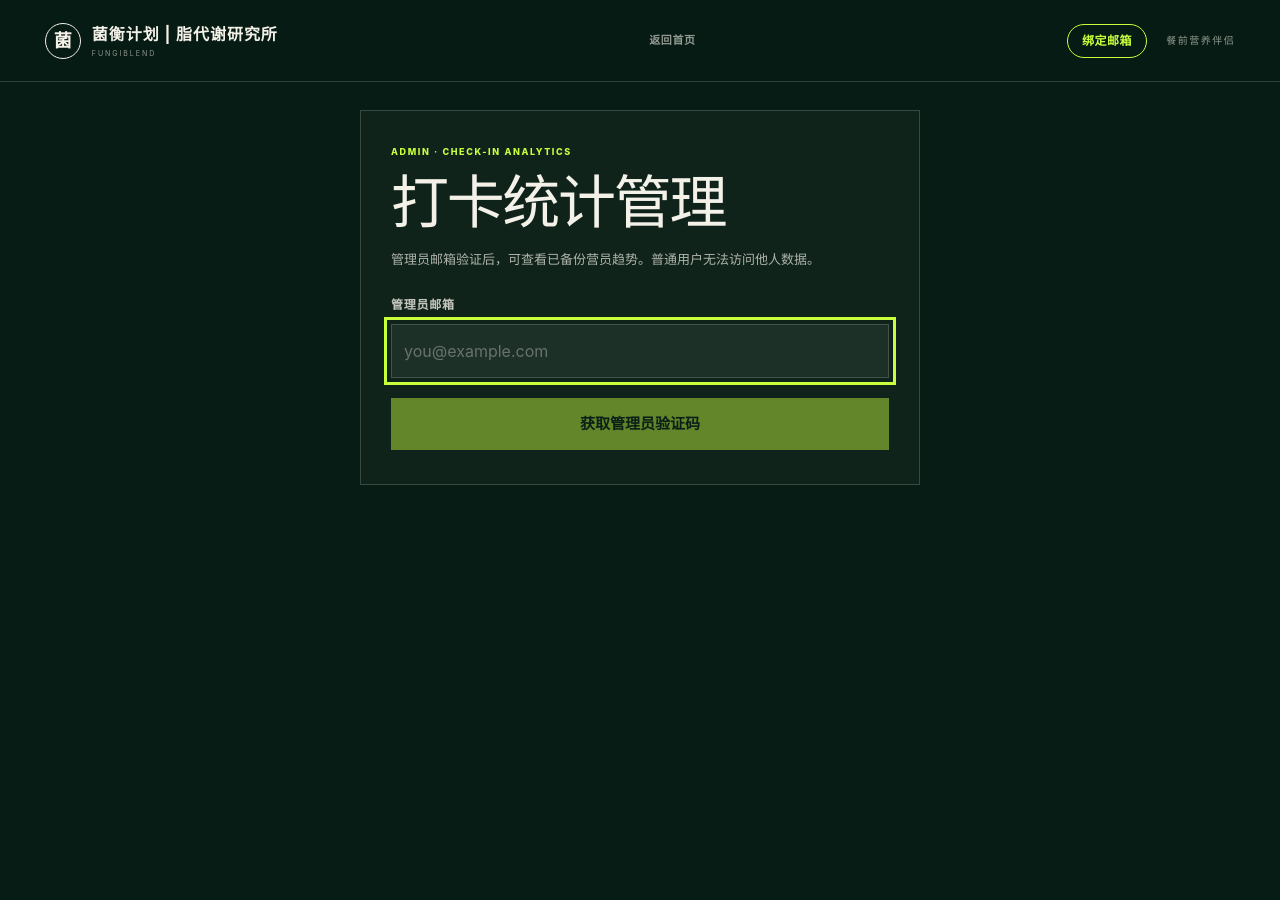
Test case: admin check-in page › shows a friendly whitelist error for a non-admin email
The image size is (1280, 900).
In the field labelled "管理员邮箱": (640, 351) x1=391 y1=324 x2=889 y2=378, type "outside@example.com"
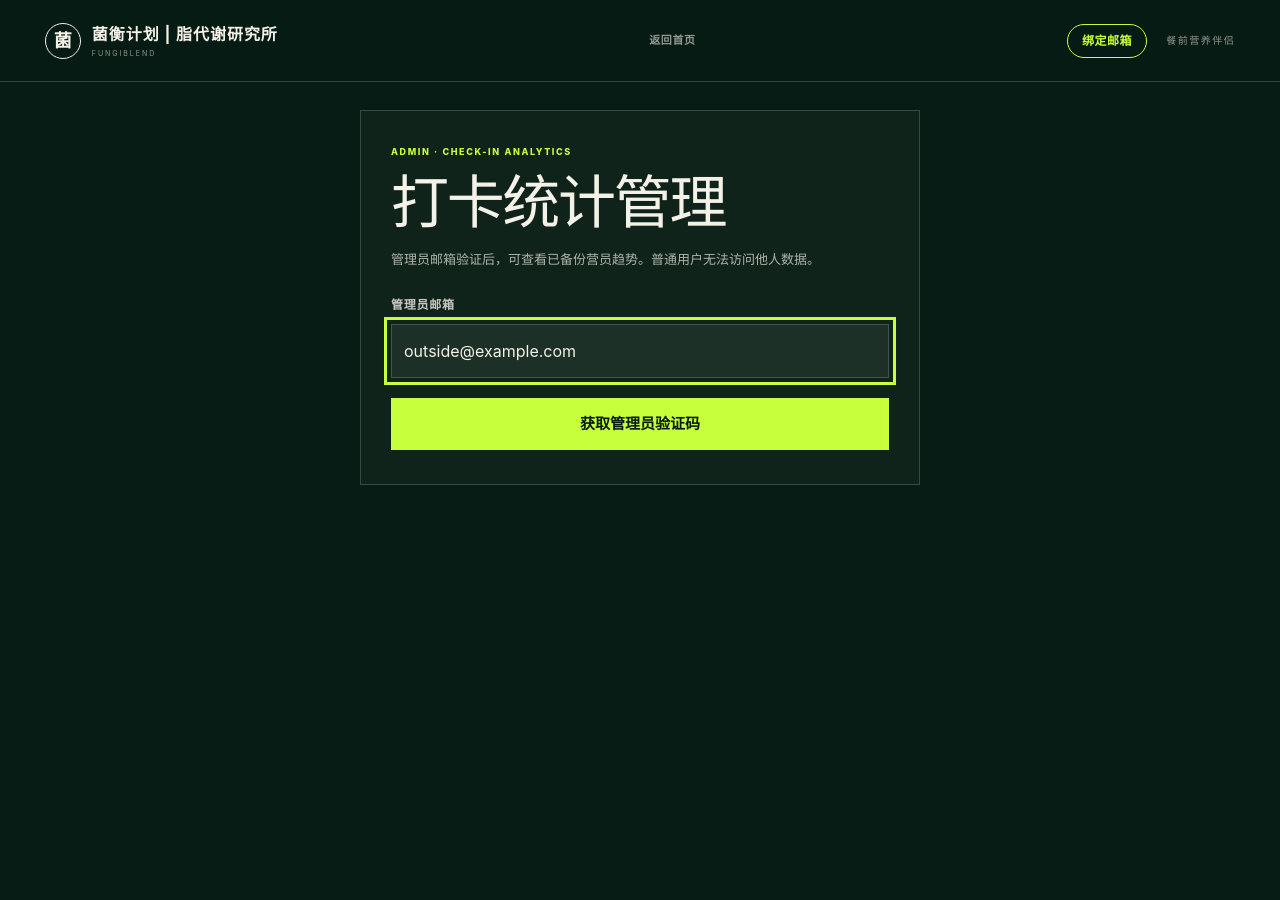
Click the button "获取管理员验证码": (640, 424) x1=391 y1=398 x2=889 y2=450
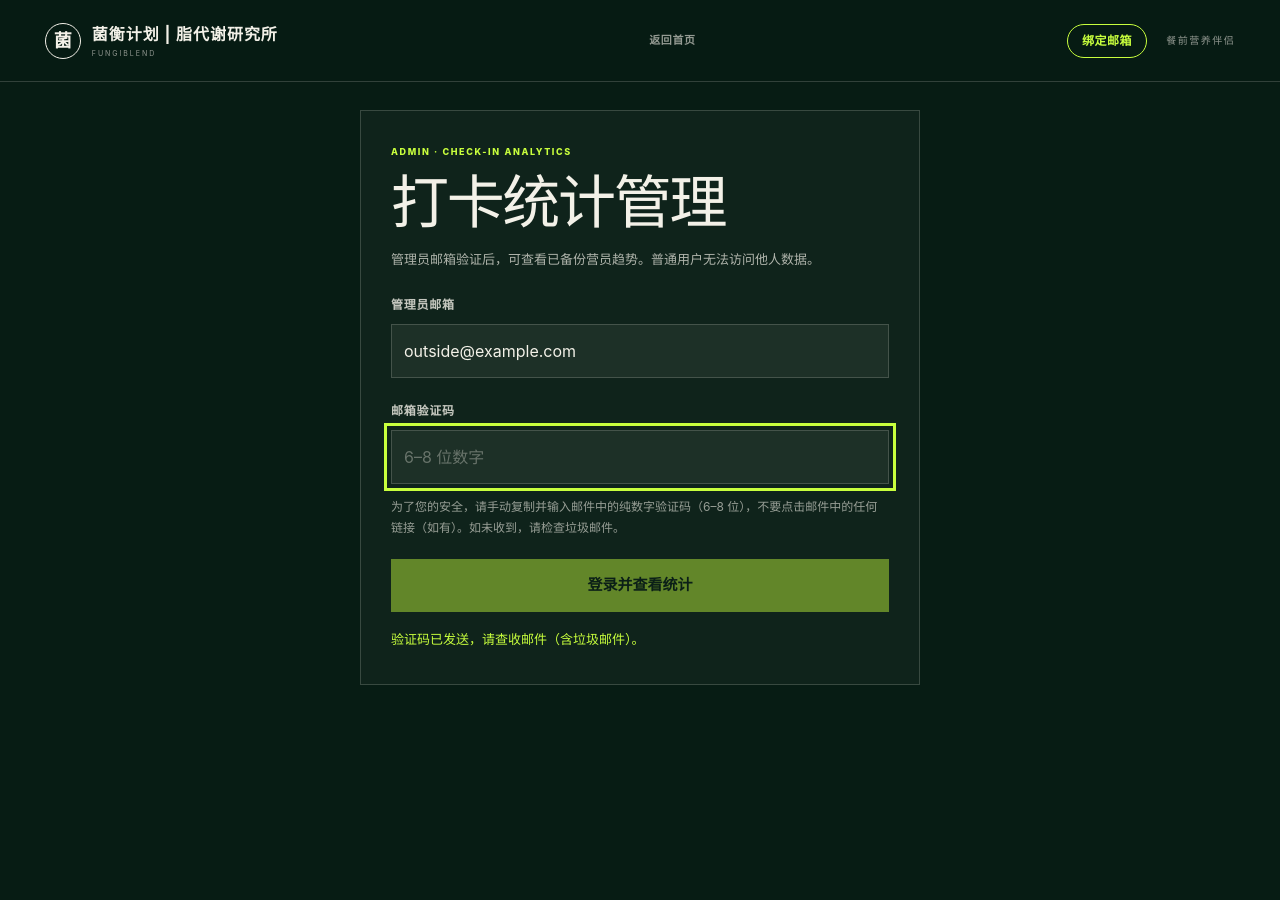
In the field labelled "邮箱验证码": (640, 457) x1=391 y1=430 x2=889 y2=484, type "123456"
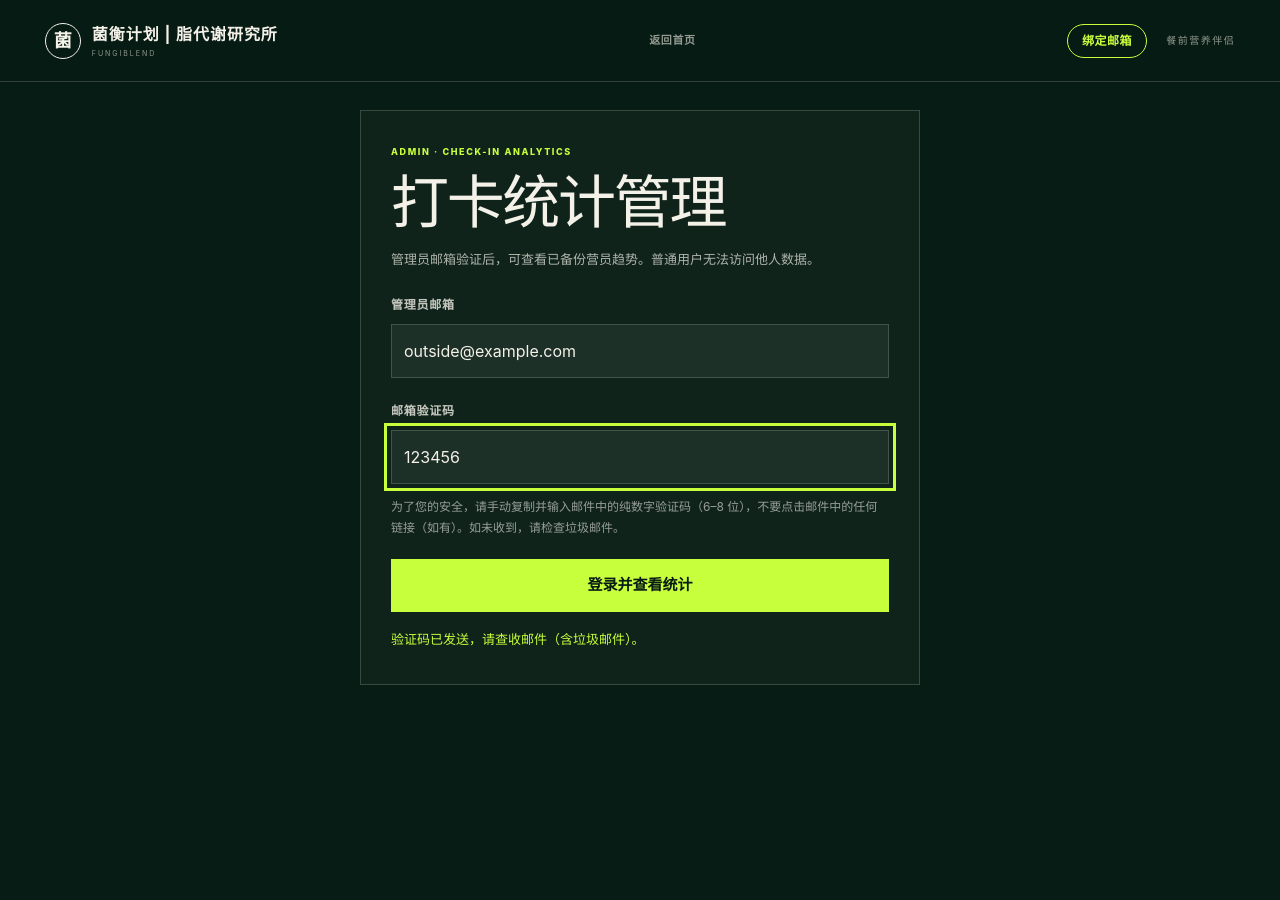
Click the button "登录并查看统计": (640, 585) x1=391 y1=559 x2=889 y2=612
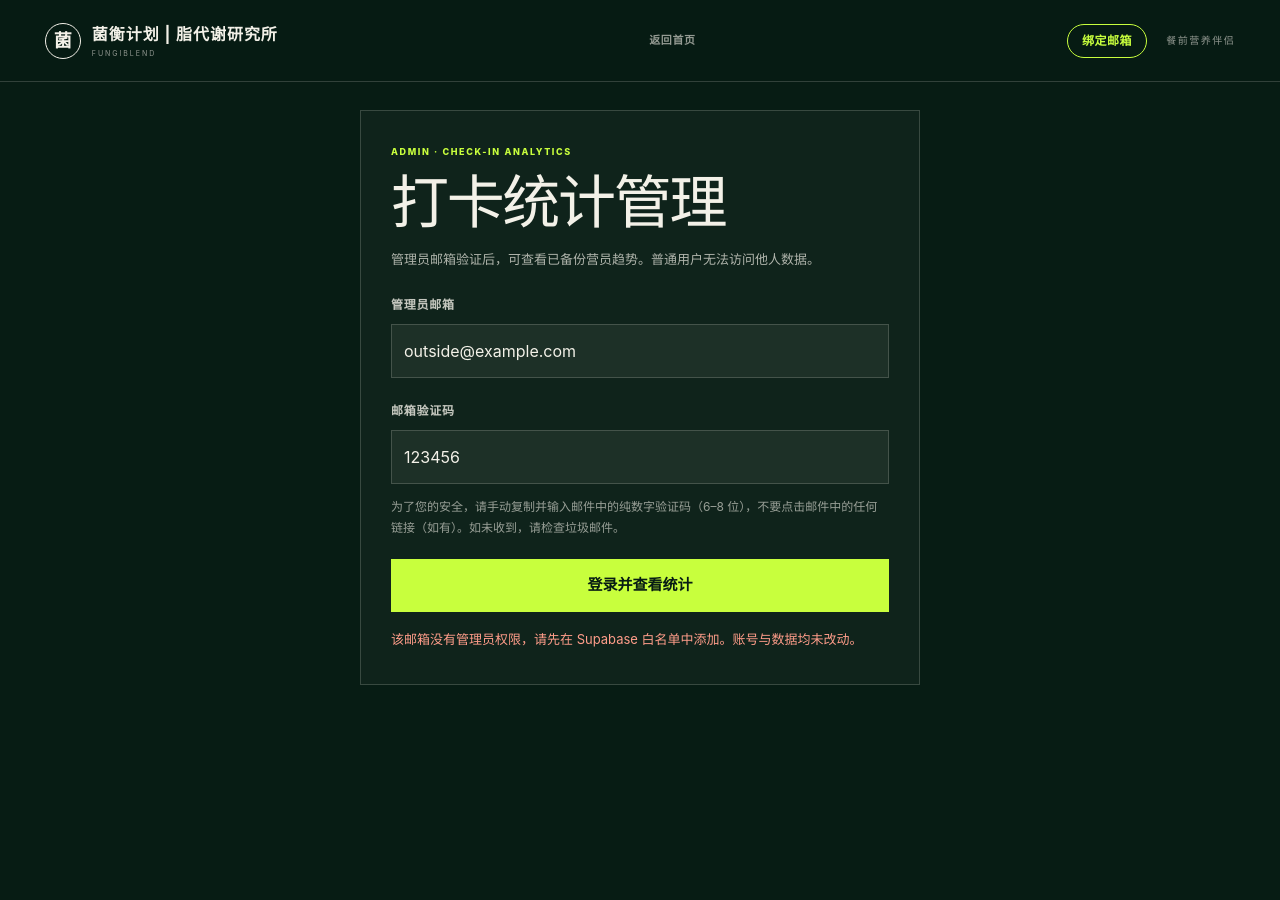
Expected: the heading "打卡统计管理" is shown, x1=391 y1=166 x2=725 y2=236
Now the message shows "没有管理员权限", box x1=391 y1=630 x2=863 y2=646
